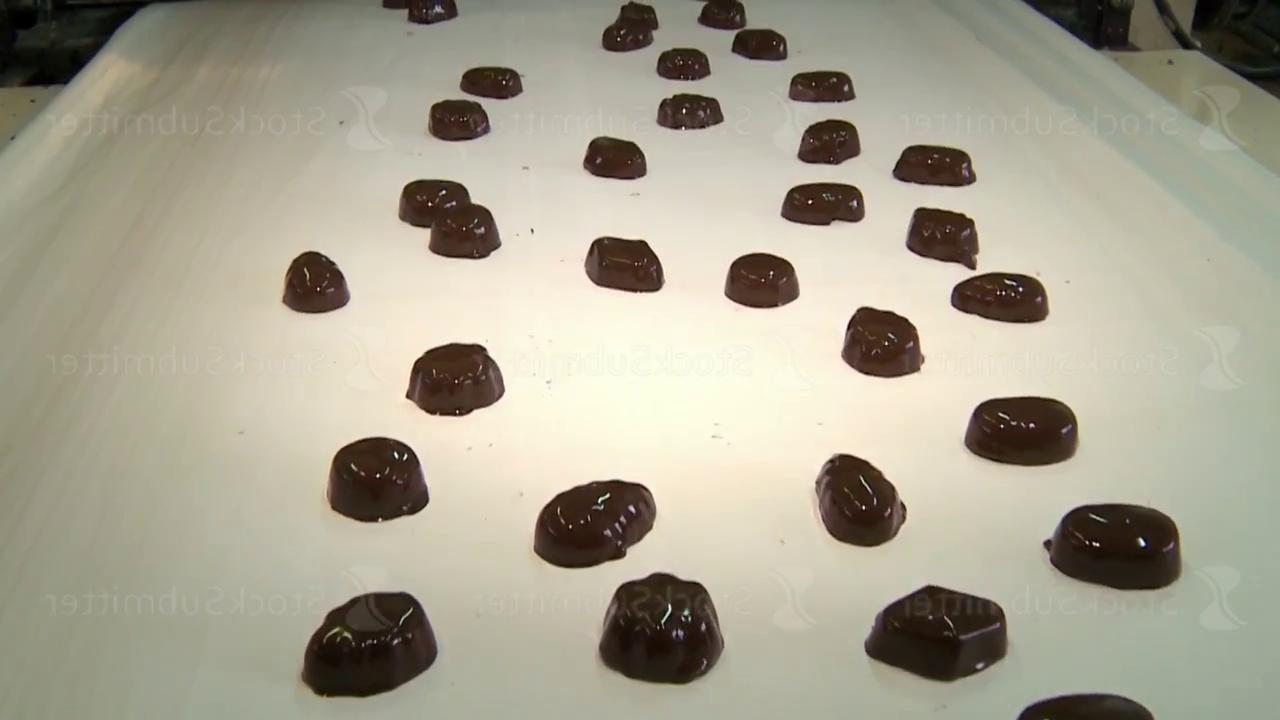chocolate: (302, 590, 438, 697), (599, 571, 725, 683), (865, 584, 1008, 681), (1045, 502, 1182, 590), (534, 478, 657, 568), (327, 436, 430, 522), (815, 452, 907, 546), (965, 395, 1079, 465), (406, 341, 505, 416), (842, 306, 924, 377), (952, 271, 1049, 322), (585, 236, 664, 292), (907, 207, 979, 268), (283, 250, 350, 313), (725, 252, 799, 308), (429, 203, 501, 258), (1018, 692, 1156, 719), (781, 182, 865, 225), (893, 144, 976, 186), (399, 178, 470, 226), (602, 1, 659, 52), (798, 118, 861, 164), (584, 136, 647, 179), (429, 99, 490, 140), (657, 93, 724, 130), (789, 70, 856, 102), (461, 66, 523, 99), (732, 28, 788, 61), (657, 47, 711, 80), (698, 0, 746, 30)
